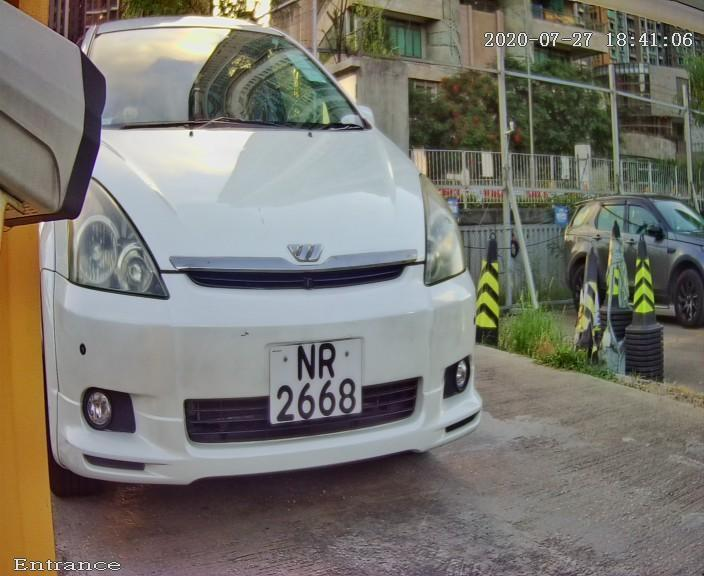privatecar: (32, 8, 519, 520)
